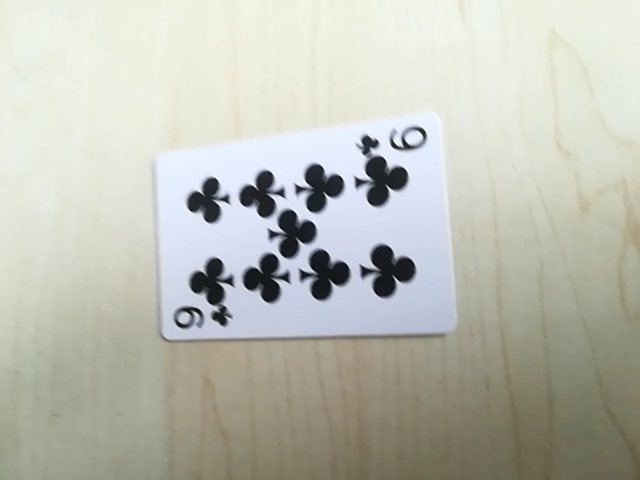mh 9: (358, 121, 435, 157), (168, 302, 231, 336)
